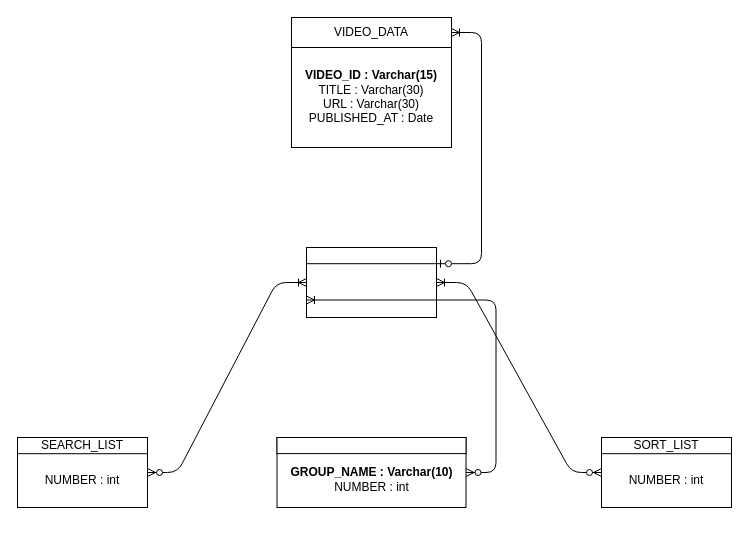
Some shapes in this 749 by 533 pixel diagram are drawn without their labels. Each missing label, with the box of its shape:
GROUP_LIST: (276, 436, 466, 454)
LIKE_DATE : Date: (306, 246, 436, 318)
VIDEO_STORE: (306, 246, 436, 264)
